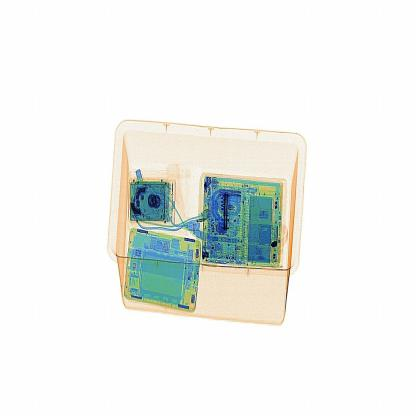scissors: (218, 185, 242, 242)
